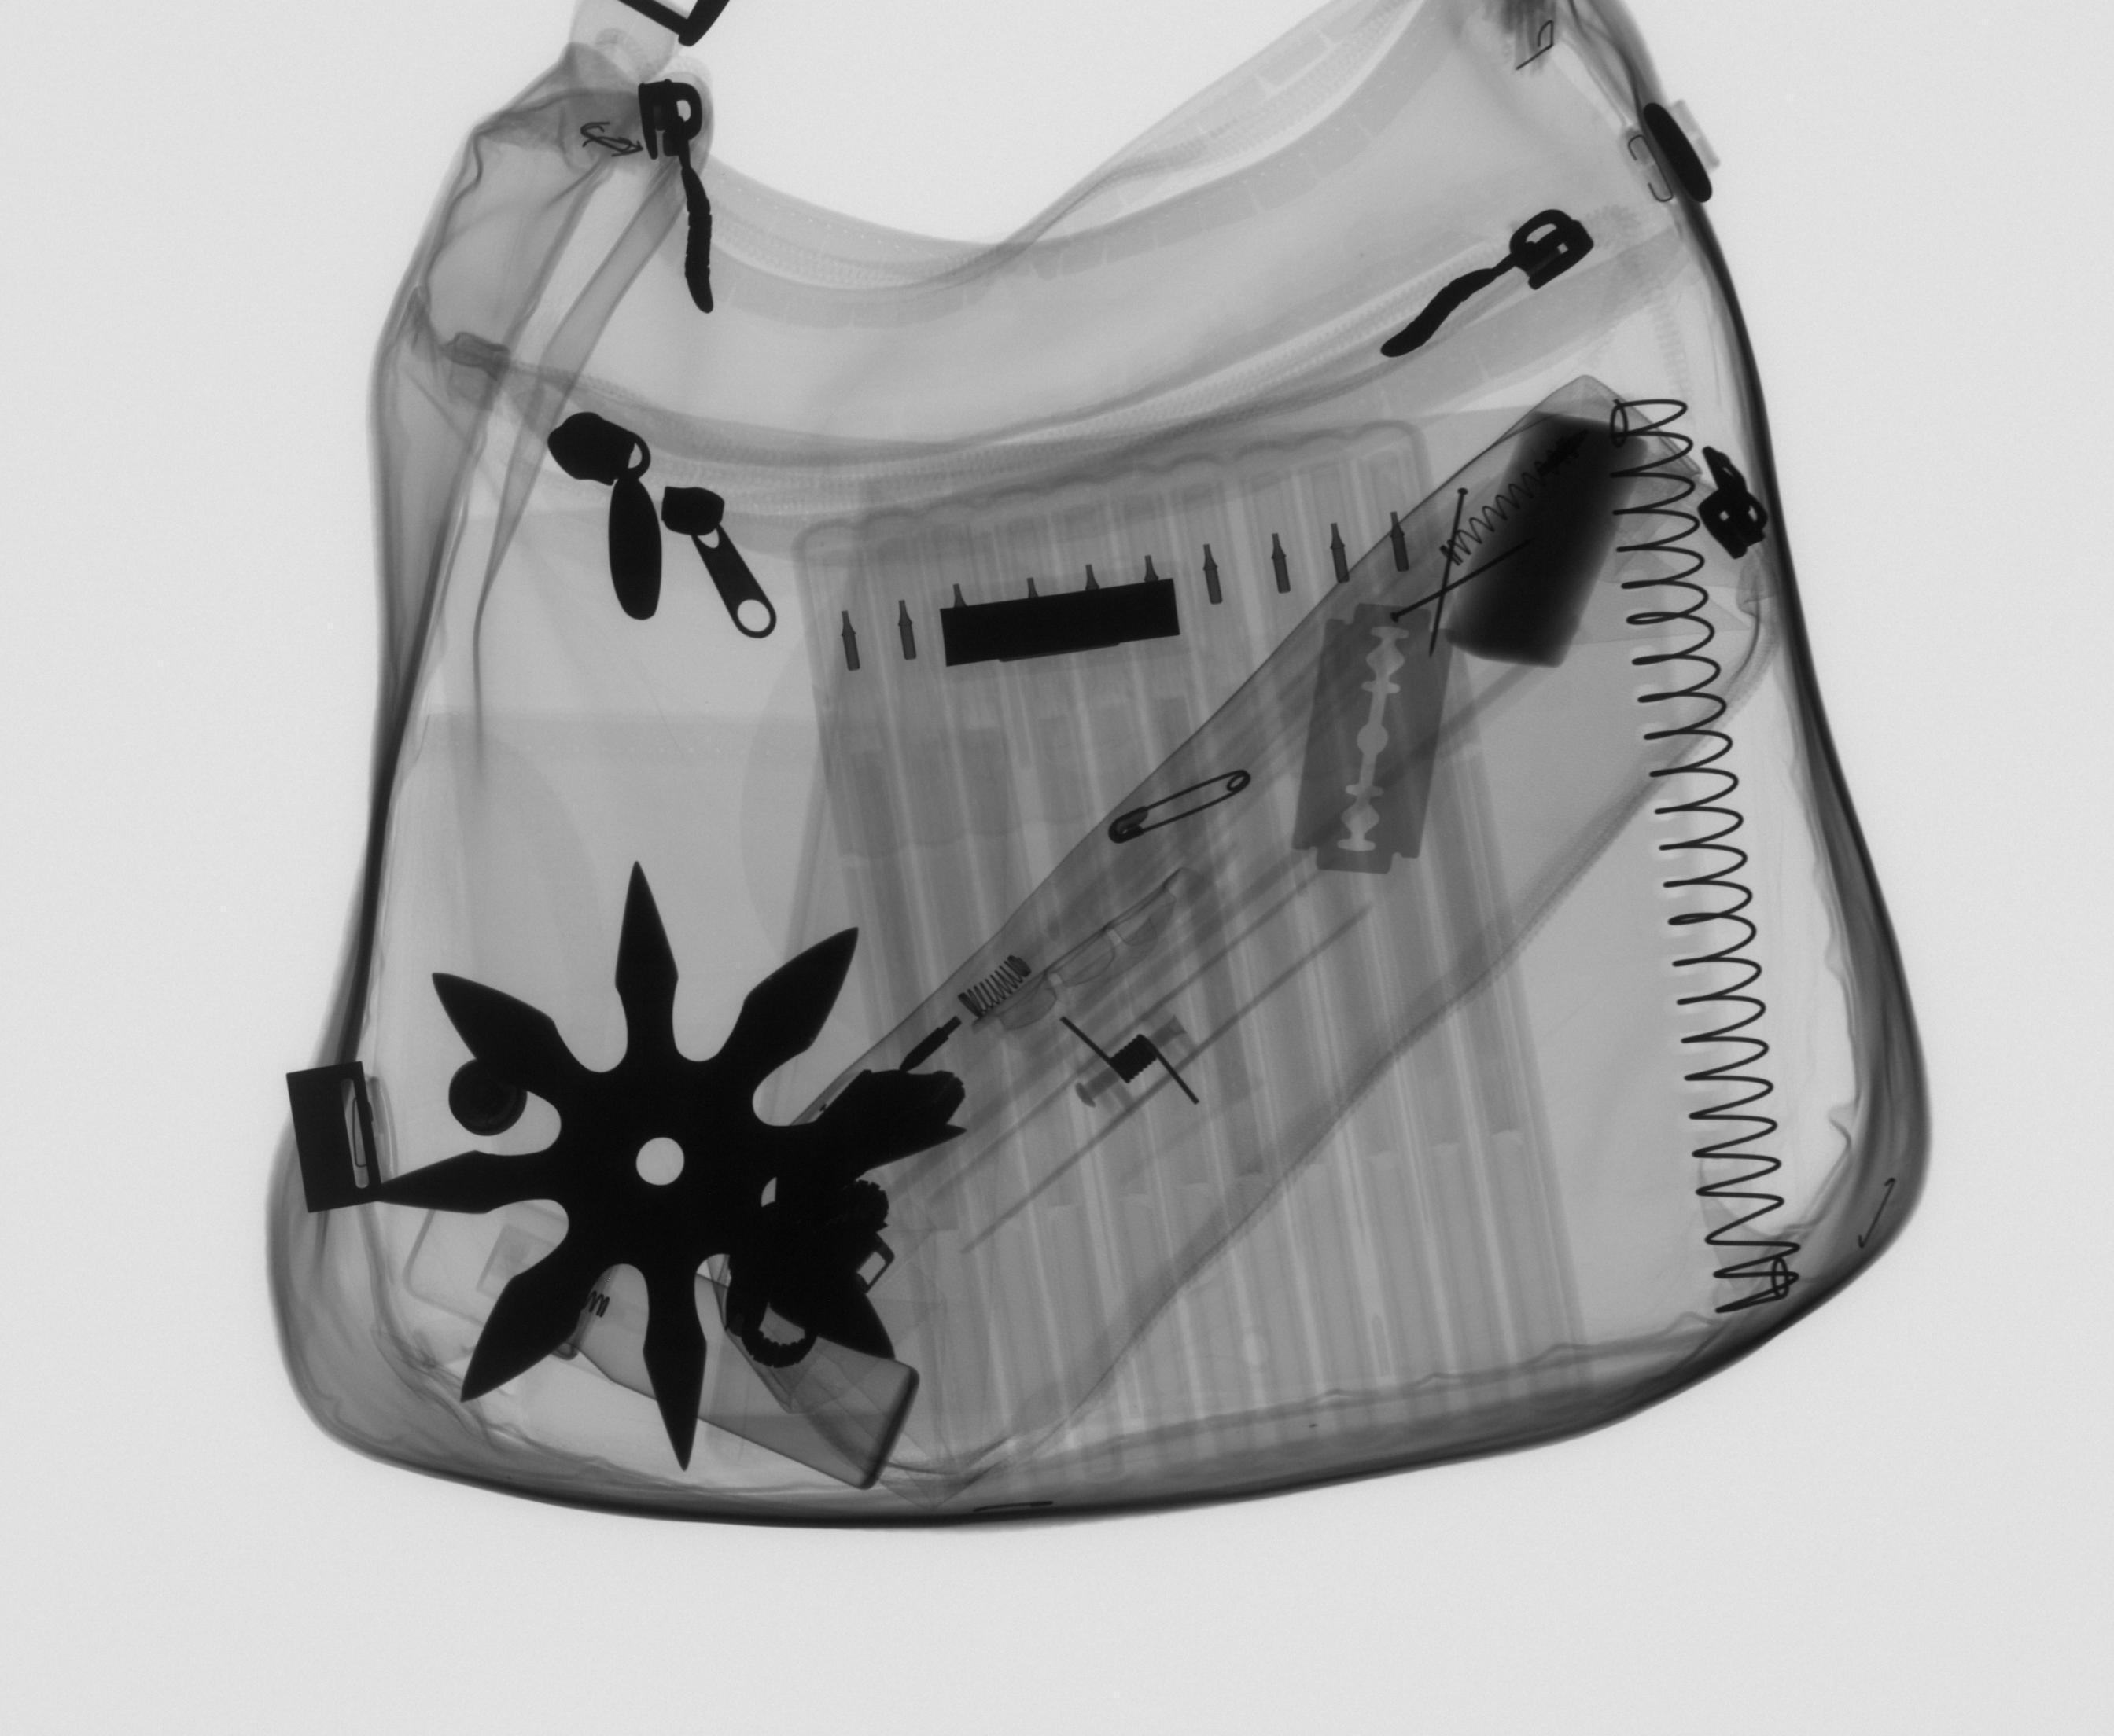RazorBlade: (1283, 595, 1463, 881)
Shuriken: (355, 851, 974, 1480)
